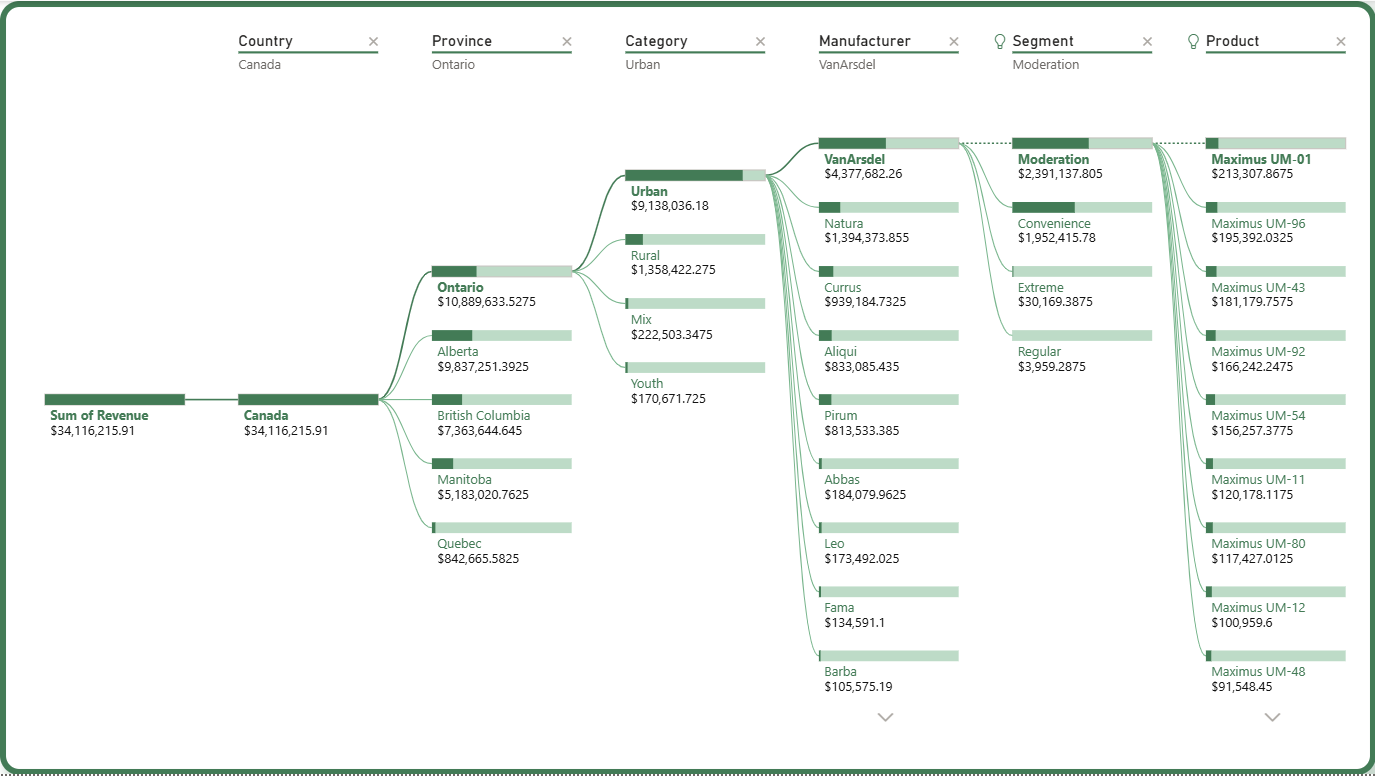

The dashboard page shown, as its layout file describes it:
{"tool":"powerbi","page":{"name":"Revenue Breakdown Analysis","canvas":[1280,720],"ordinal":2},"visuals":[{"type":"decompositionTreeVisual","fields":{"Analyze":["Sum(Fact Sales.Revenue)"],"ExplainBy":["Dim Country.Country","Dim Country.Province","Dim Product.Category","Dim Product.Manufacturer","Dim Product.Segment","Dim Product.Product"]},"box":[0,0,1280.2,719.8],"z":0}]}

Visuals, with their boxes in screenshot pixels (x1, y1, x2, y2), scaled from the page's 1280x720 canvas onto the 1375x776 screenshot:
decompositionTreeVisual - Sum(Fact Sales.Revenue) x Dim Country.Country: [x1=0, y1=0, x2=1374, y2=775]
